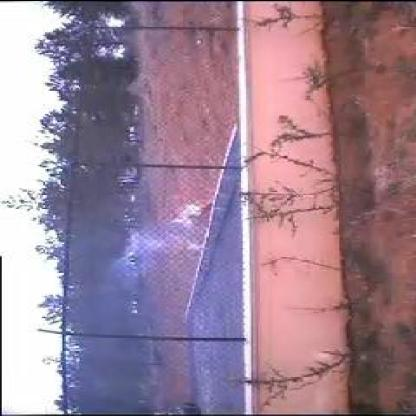-: (112, 221, 224, 334)
